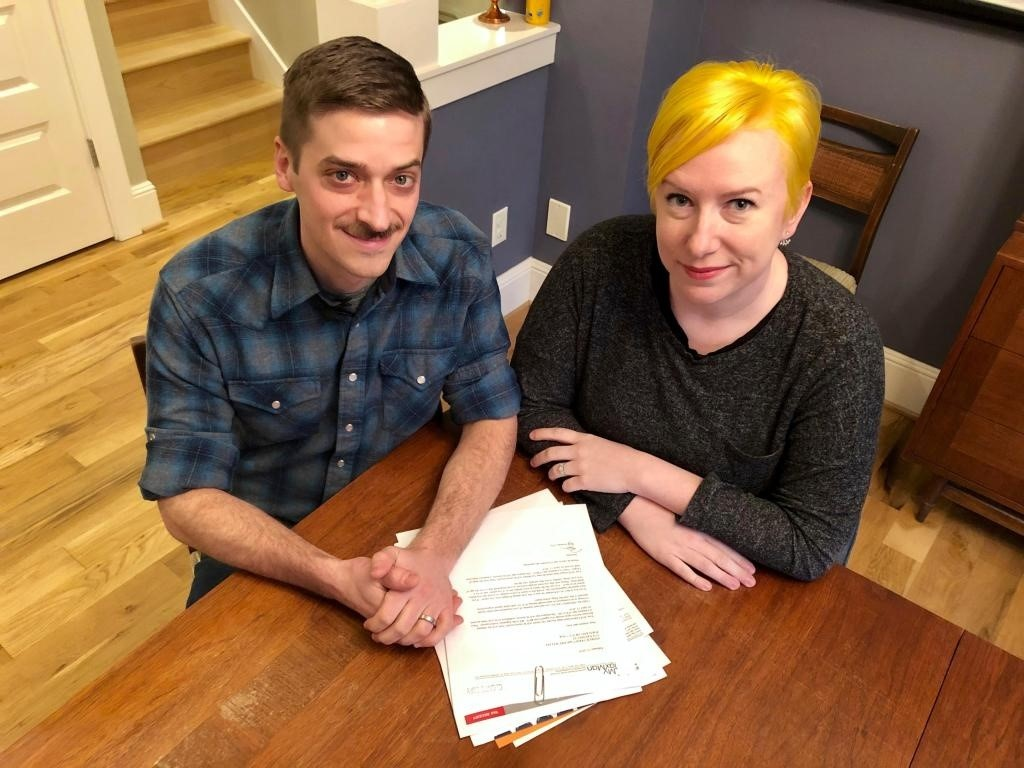face_no_mask: (648, 61, 818, 304), (272, 35, 429, 274)
